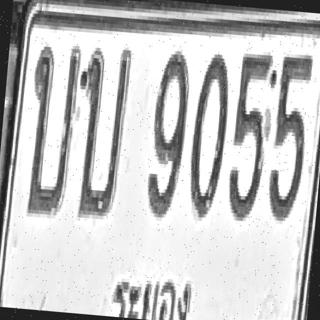A26: (68, 43, 132, 221), (22, 41, 81, 218)
N00: (185, 50, 232, 218)
N05: (225, 49, 277, 222), (265, 49, 313, 222)
N09: (145, 48, 192, 217)
P53: (110, 266, 195, 320)
